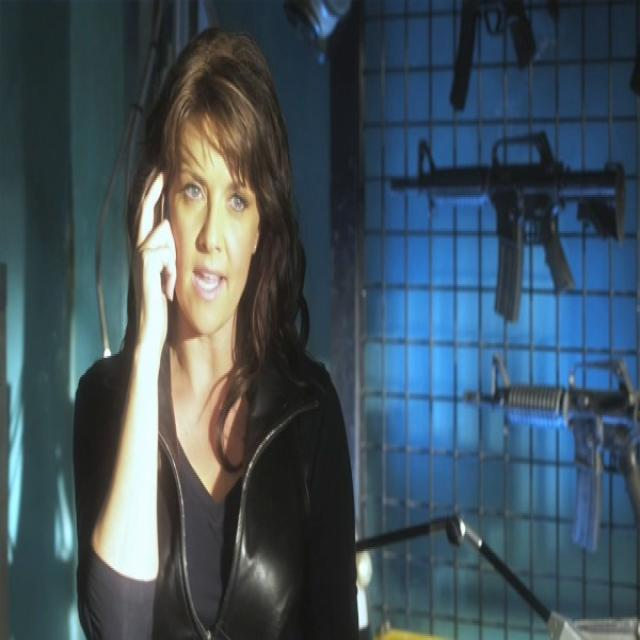rifle: (389, 123, 631, 322), (455, 341, 640, 556)
